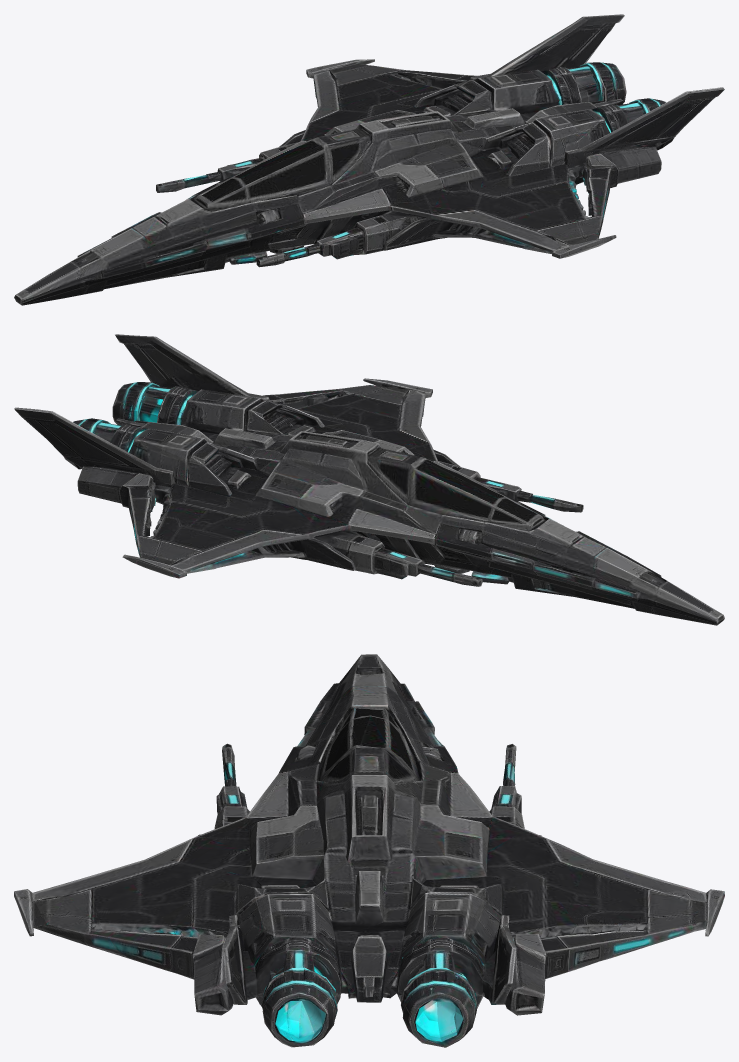
Rendered from ship_test.glb.
3 renders of one model, top to bottom at view 1: azimuth 30°, elevation 25°; view 2: azimuth 150°, elevation 25°; view 3: azimuth 270°, elevation 25°, orthographic. The views are drawn at different scales.
Parts seen in each view (by area): view 1: output_unwrapped; view 2: output_unwrapped; view 3: output_unwrapped.
Boxes of the visible parts, x1,y1,x2,y2 form: output_unwrapped: [14, 14, 724, 305]; output_unwrapped: [14, 334, 724, 625]; output_unwrapped: [14, 654, 724, 1047].
Bounding box in the file's own units: 1.9 × 0.2861 × 1.27.
1 material, 1 textured.
